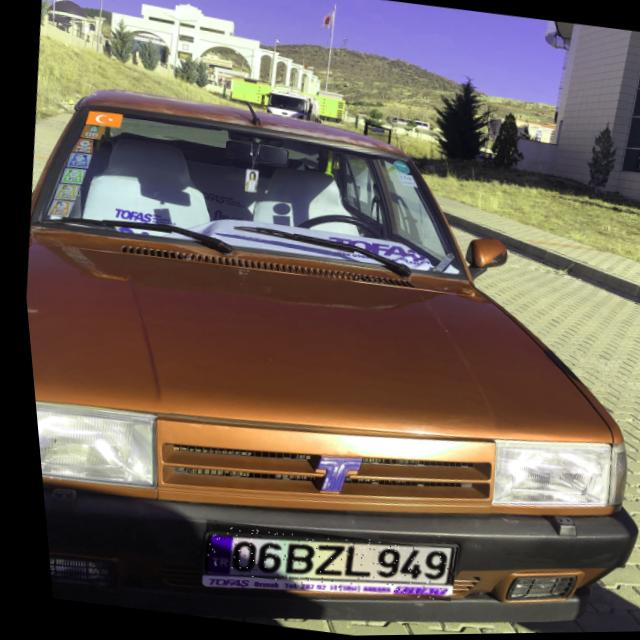license_plate: (189, 517, 446, 606)
